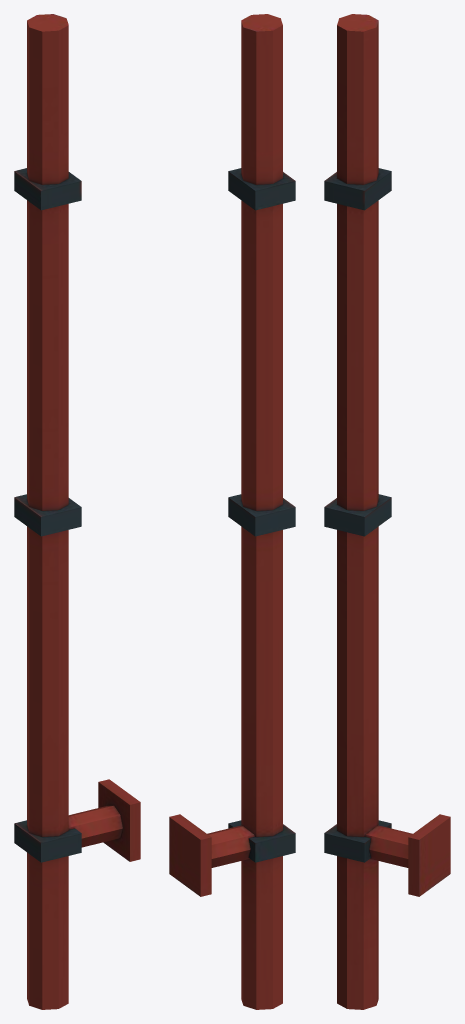
The model's file is standpipe.glb.
3 views of the same model, side by side, from view 1: azimuth 30°, elevation 25°; view 2: azimuth 210°, elevation 25°; view 3: azimuth 330°, elevation 25° (orthographic).
Visible parts, largest first — view 1: body; view 2: body; view 3: body.
Part boxes in pixels (x1,y1,x2,y2): body: (14,14,140,1009); body: (169,14,295,1009); body: (324,14,450,1009).
Size of the model in its own units: 0.6252 by 6 by 0.3501.
Materials: 1 (1 with a texture image).
